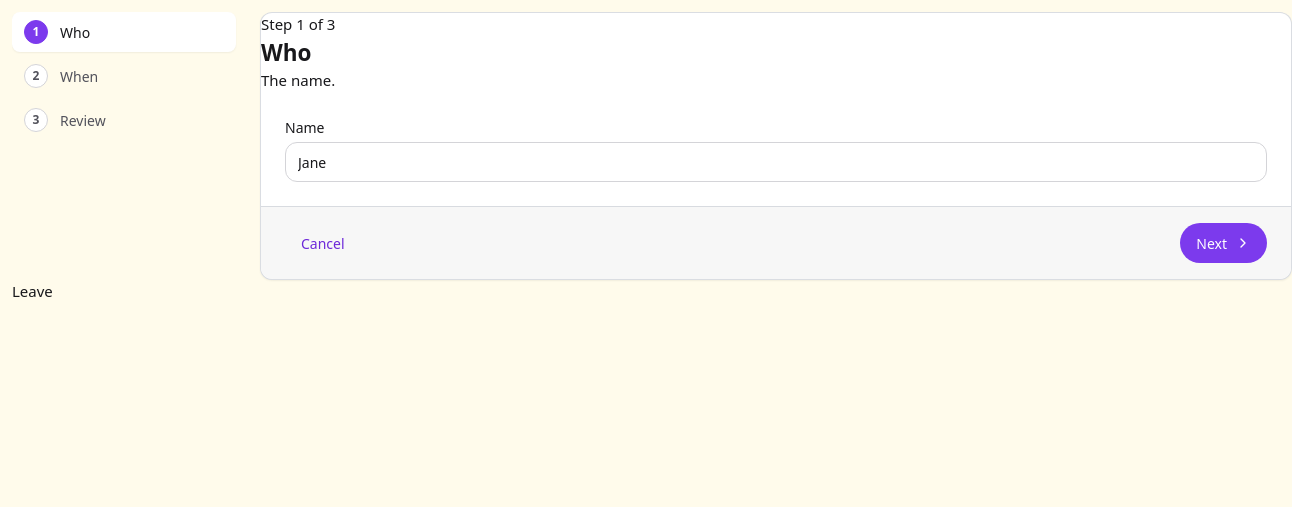
StepForm › shows the API's message when saving fails and stays on the review
What coordinates should you click on to do the following:
click the button "3 Review"
I would click on:
 (124, 120)
Its box is [12,100,236,140].
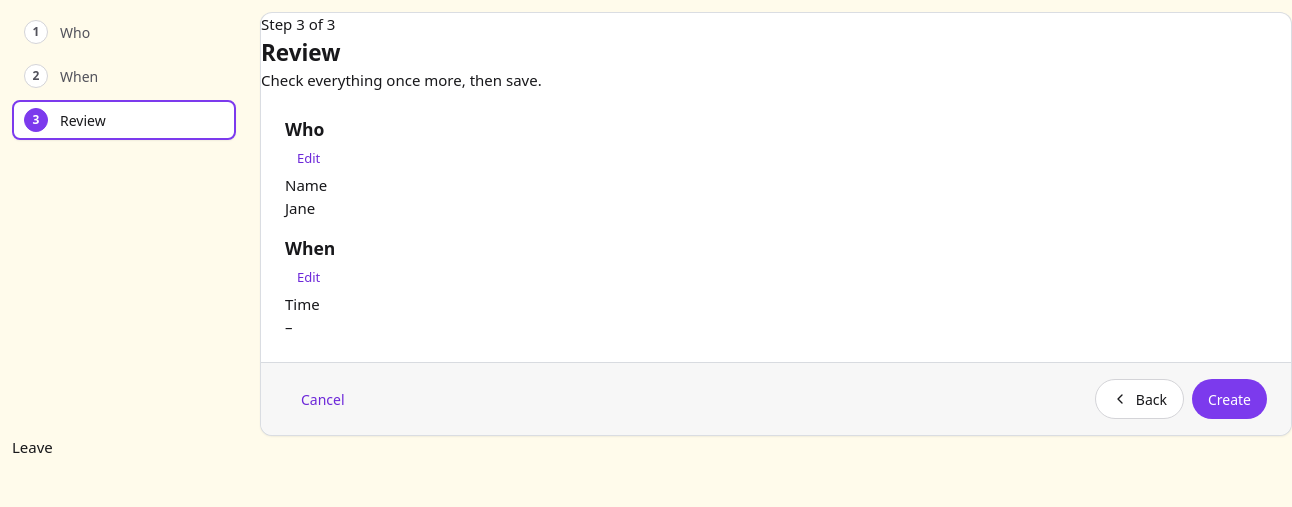
What coordinates should you click on to do the following:
click the button "Create"
I would click on:
 (1229, 399)
Its box is [1192,379,1267,419].
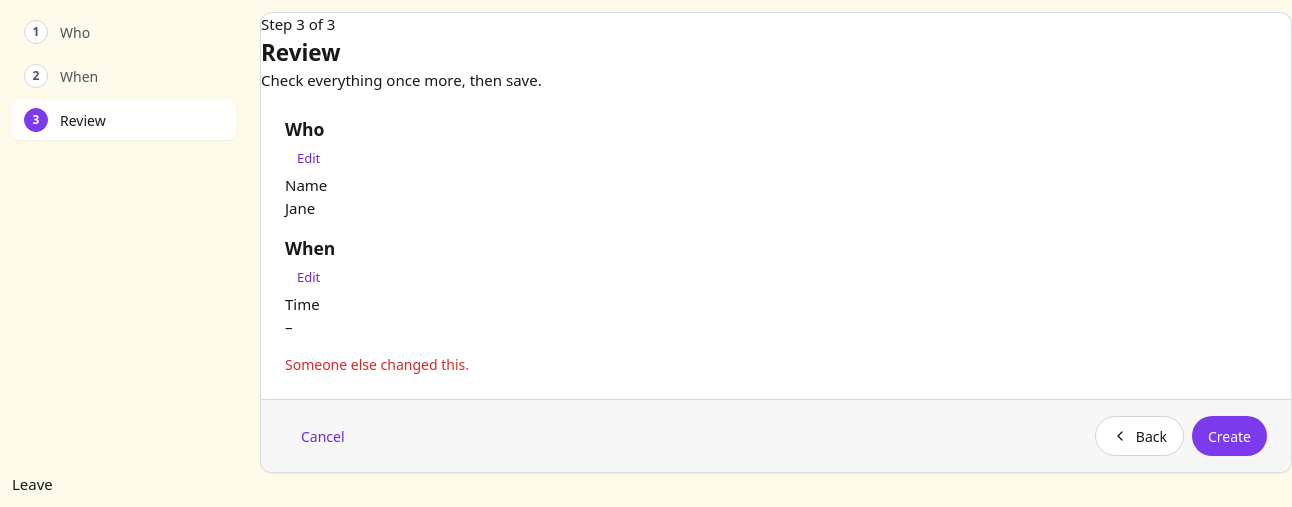
Result: the heading "Review" is shown at [261,36,340,68]
Result: the text "Someone else changed this." is shown at [285,355,469,374]
